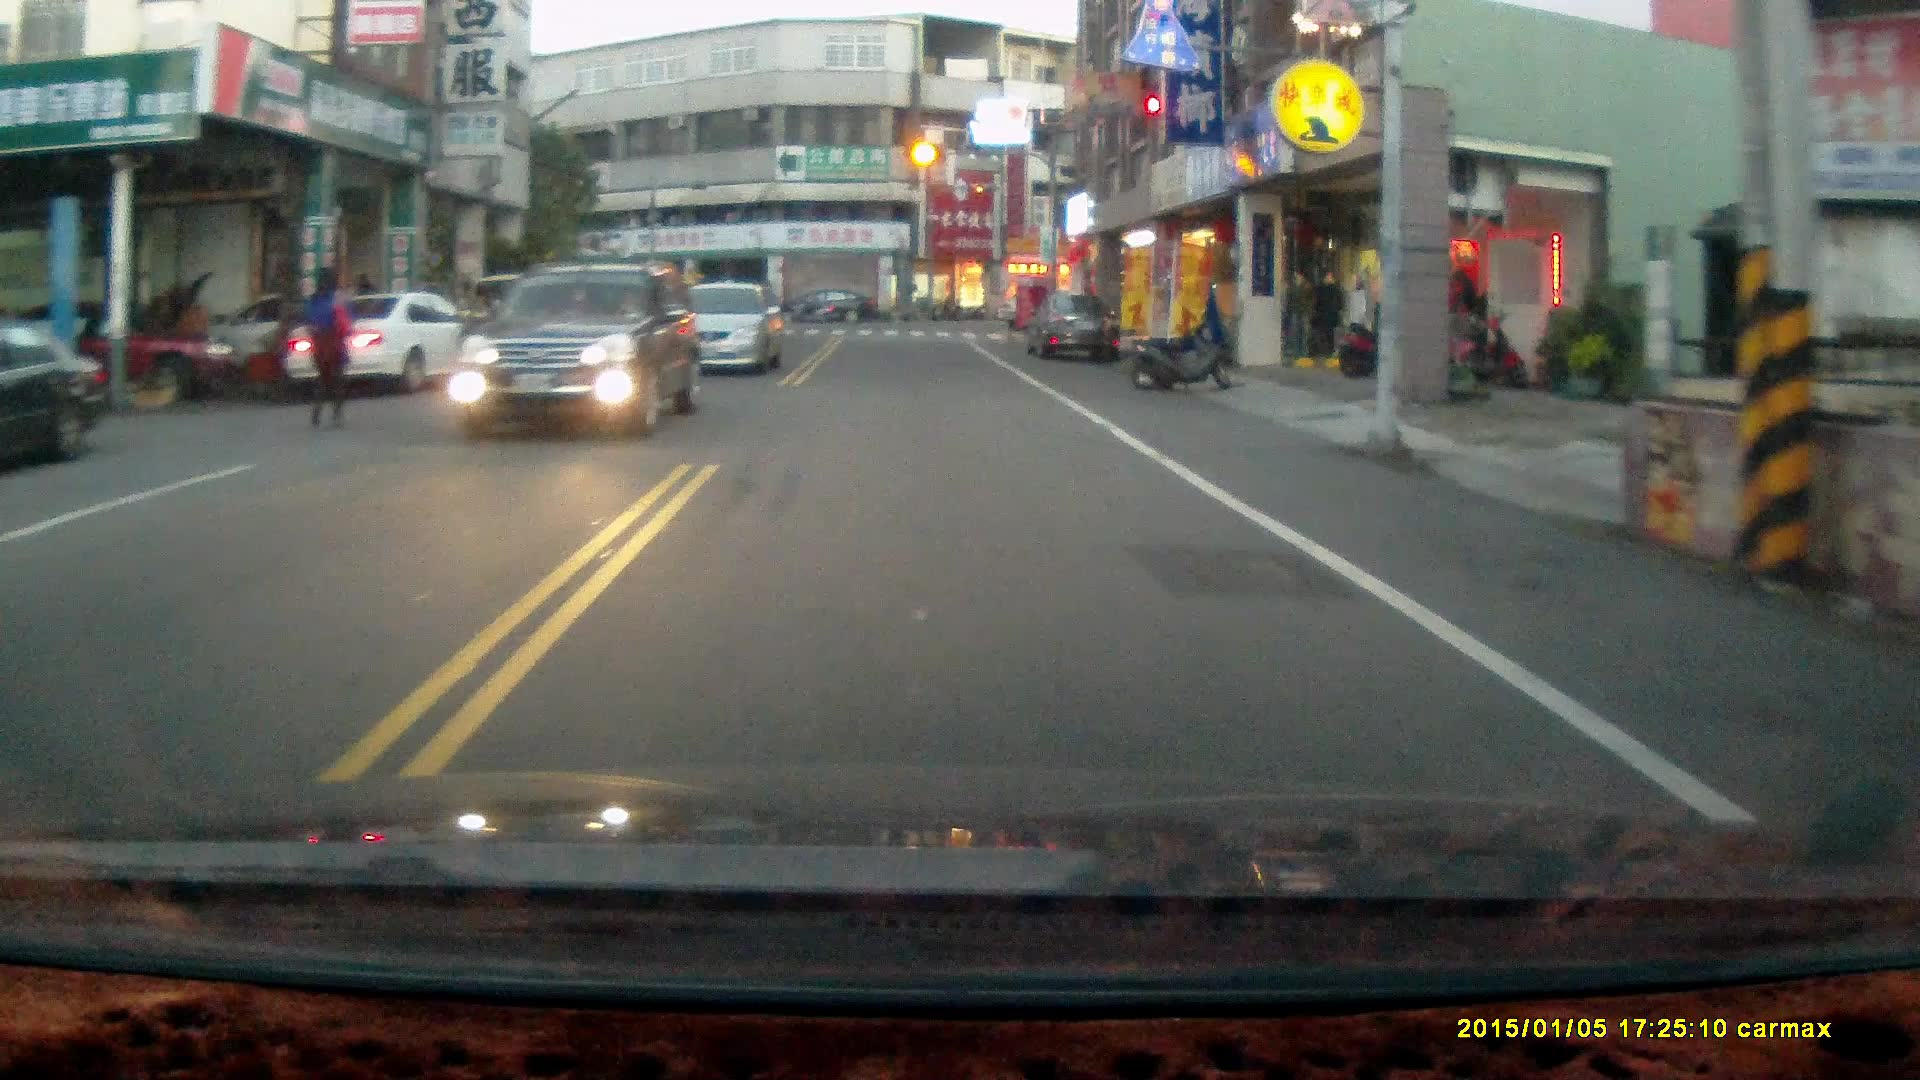pedestrian: (303, 263, 351, 432)
vehicle: (458, 262, 703, 439), (277, 292, 513, 399), (1, 317, 116, 461), (658, 279, 785, 376), (1029, 291, 1132, 371), (778, 288, 882, 330)
